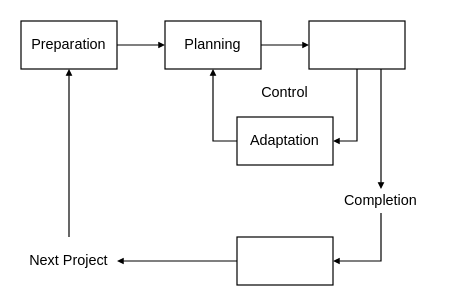
The diagram is 450 pixels wide and 306 high, and some of its shapes have lost their labels. The shapes that lost their labels are listed below. From the top down, each one's box as (x1, y1, x2, y2) in pixels, then its label:
(308, 20, 405, 69): Monitoring
(236, 236, 333, 285): Learning
